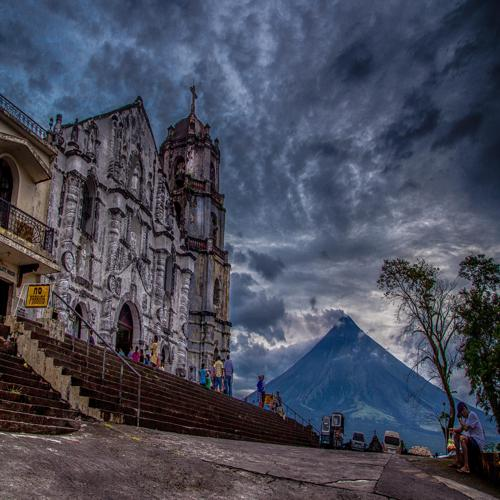Daraga Church: (41, 62, 236, 391)
